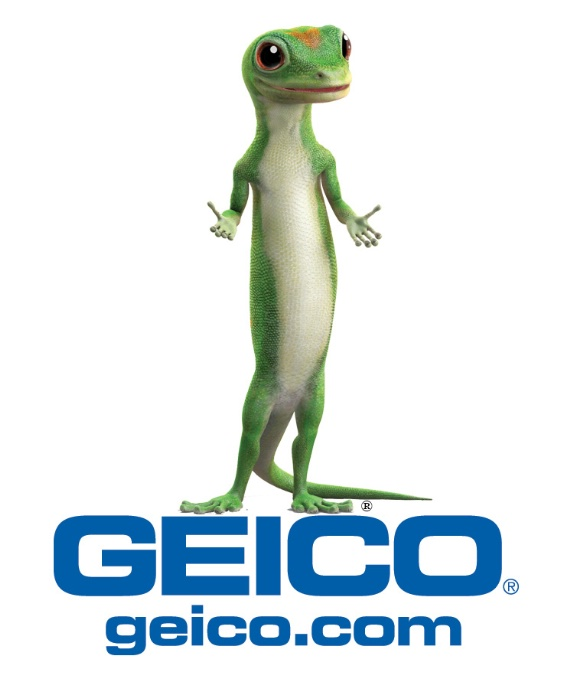geico: (50, 512, 529, 595), (106, 611, 297, 659)
